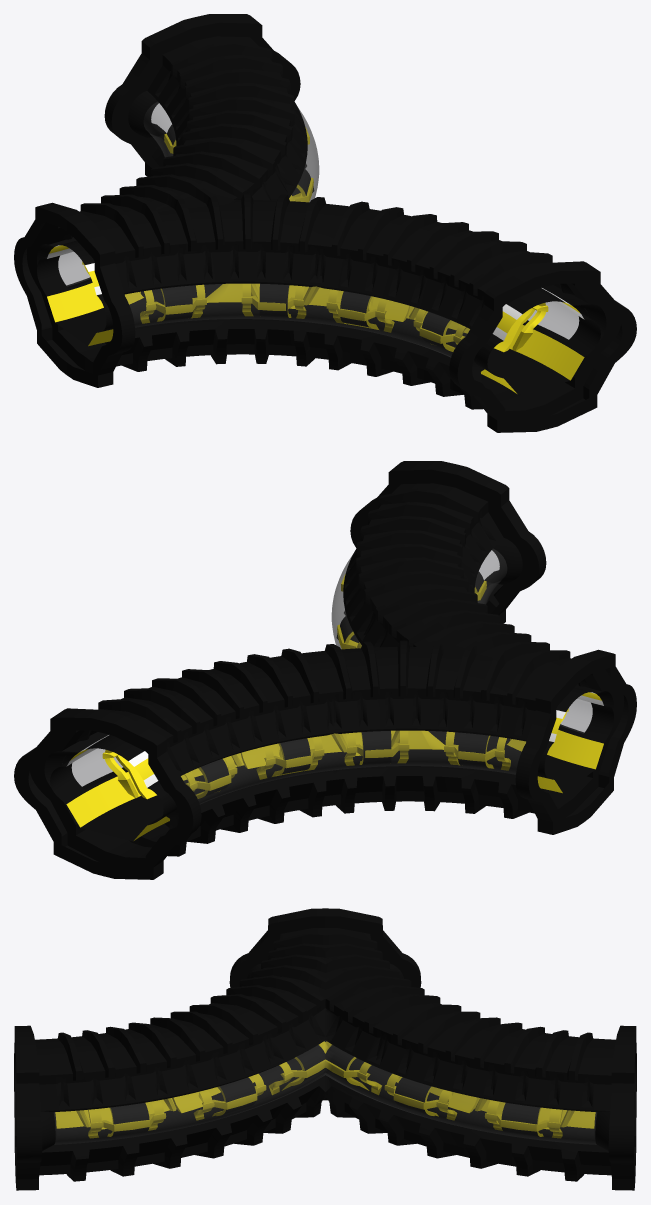
The model's file is Connect_03.FBX.
3 views of the same model, one above another, from view 1: azimuth 30°, elevation 25°; view 2: azimuth 150°, elevation 25°; view 3: azimuth 270°, elevation 25° (orthographic). The views are drawn at different scales.
Visible parts, largest first — view 1: Connect_doub; view 2: Connect_doub; view 3: Connect_doub.
Part boxes in pixels (box(x1,y1,x2,y2)): Connect_doub: box(14, 14, 636, 432); Connect_doub: box(14, 461, 636, 879); Connect_doub: box(14, 908, 636, 1190).
Size of the model in its own units: 2037 by 764 by 3148.
